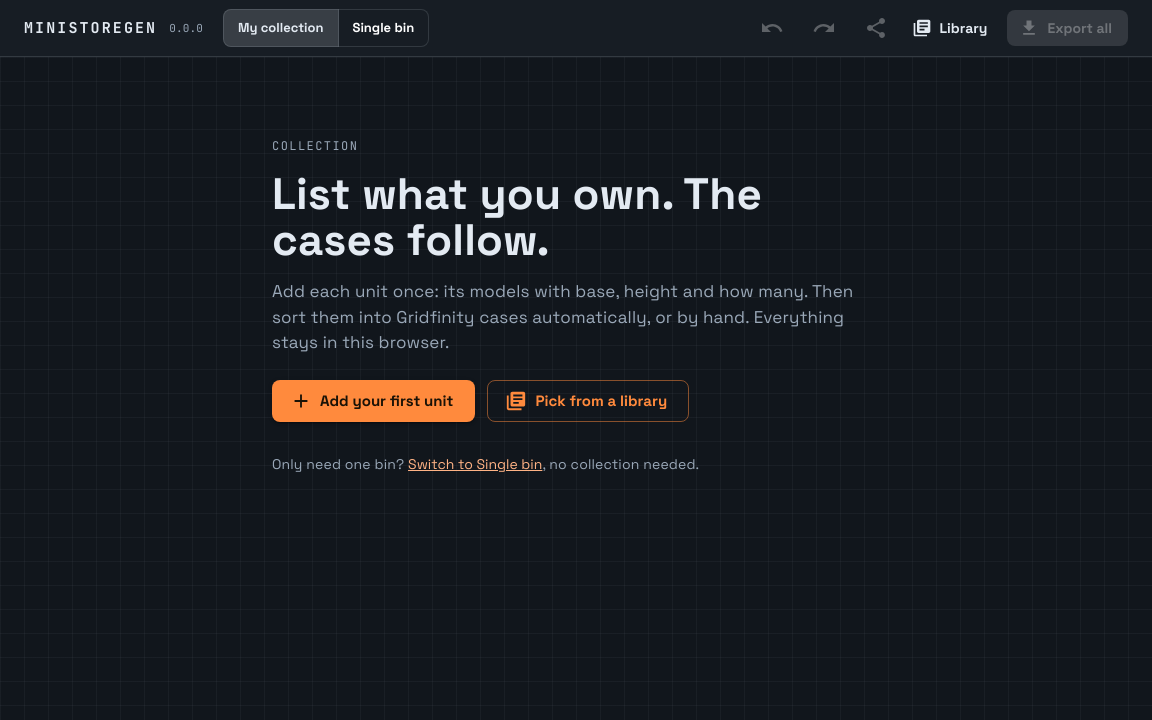
Test: starts with an empty collection and a way to skip it
Expected: the heading "List what you own. The cases follow." is shown, 272,166 -> 762,268
Step 1. Click the button "Switch to Single bin" → (475, 464), box 408,454 -> 542,474
(page scrolled)
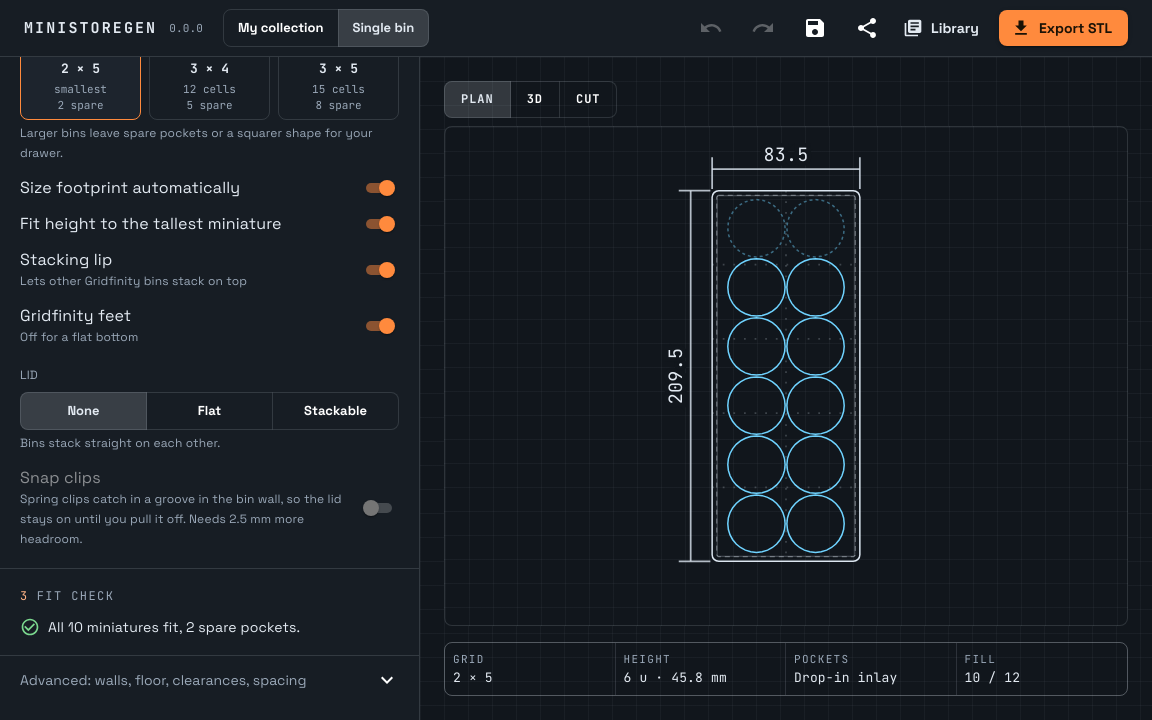
Result: the element with test id "fit-ok" shows "All 10 miniatures fit" at 48,618 -> 300,636
